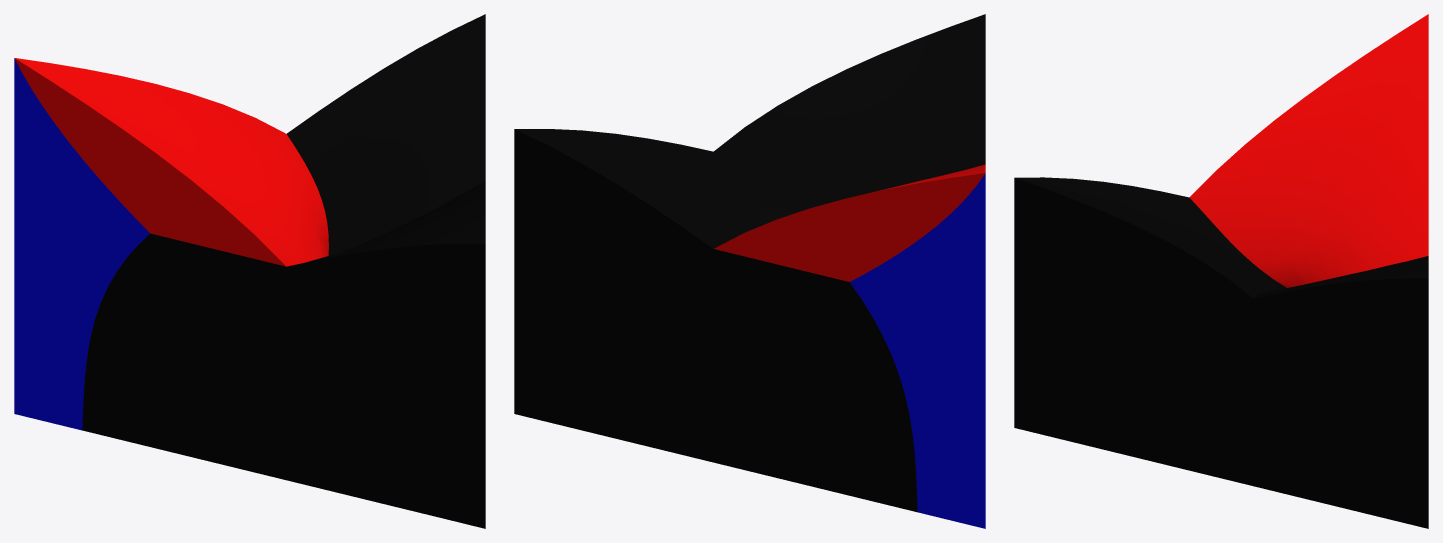
The model's file is tpd.obj.
The picture shows the model from 3 angles, left to right: view 1: azimuth 30°, elevation 25°; view 2: azimuth 150°, elevation 25°; view 3: azimuth 270°, elevation 25°; orthographic projection. The views are drawn at different scales.
Bounding box in the file's own units: 2.46 × 1.78 × 2.13.
